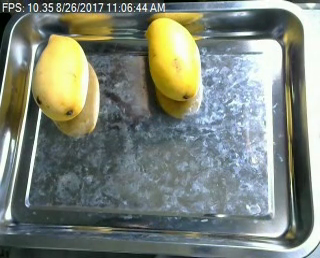Mango: (136, 12, 213, 109), (28, 34, 93, 125)
